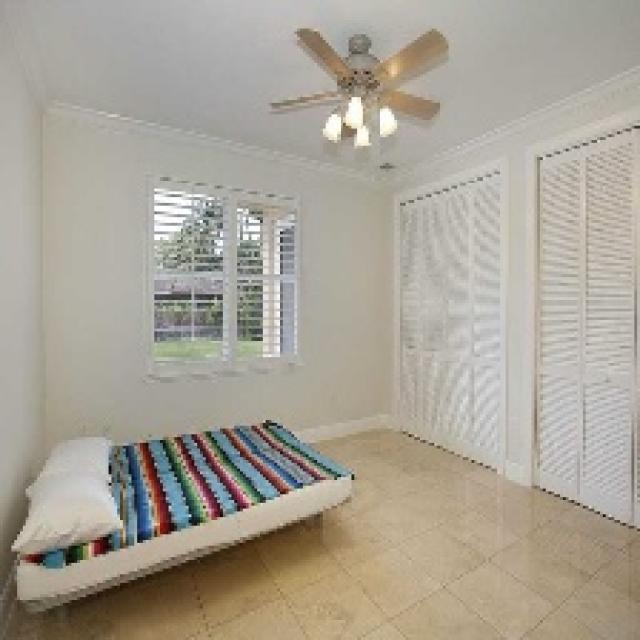Bed: (9, 417, 352, 612)
